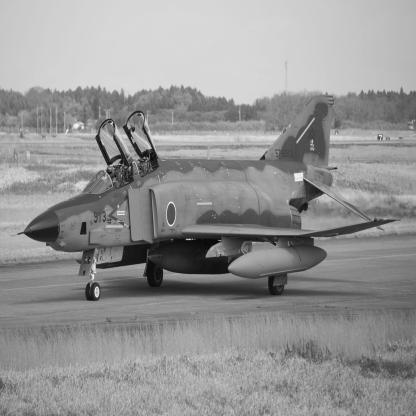F4: (10, 97, 402, 302)
